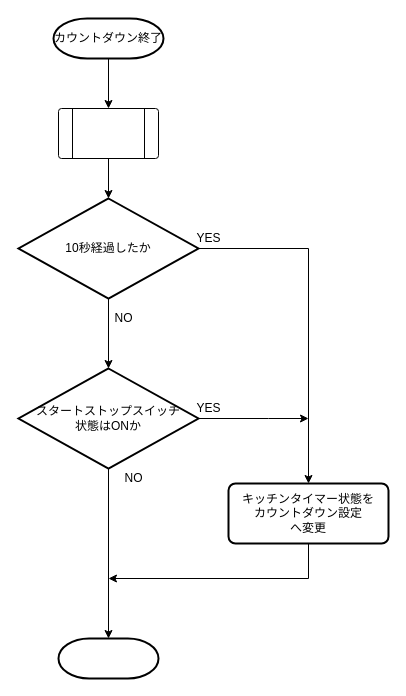
Image size: 406x696. Some labels were removed from this diagram. Each missing label, with the centre of its shape:
"10秒検知" belongs at point (108, 133).
"end" belongs at point (108, 658).
